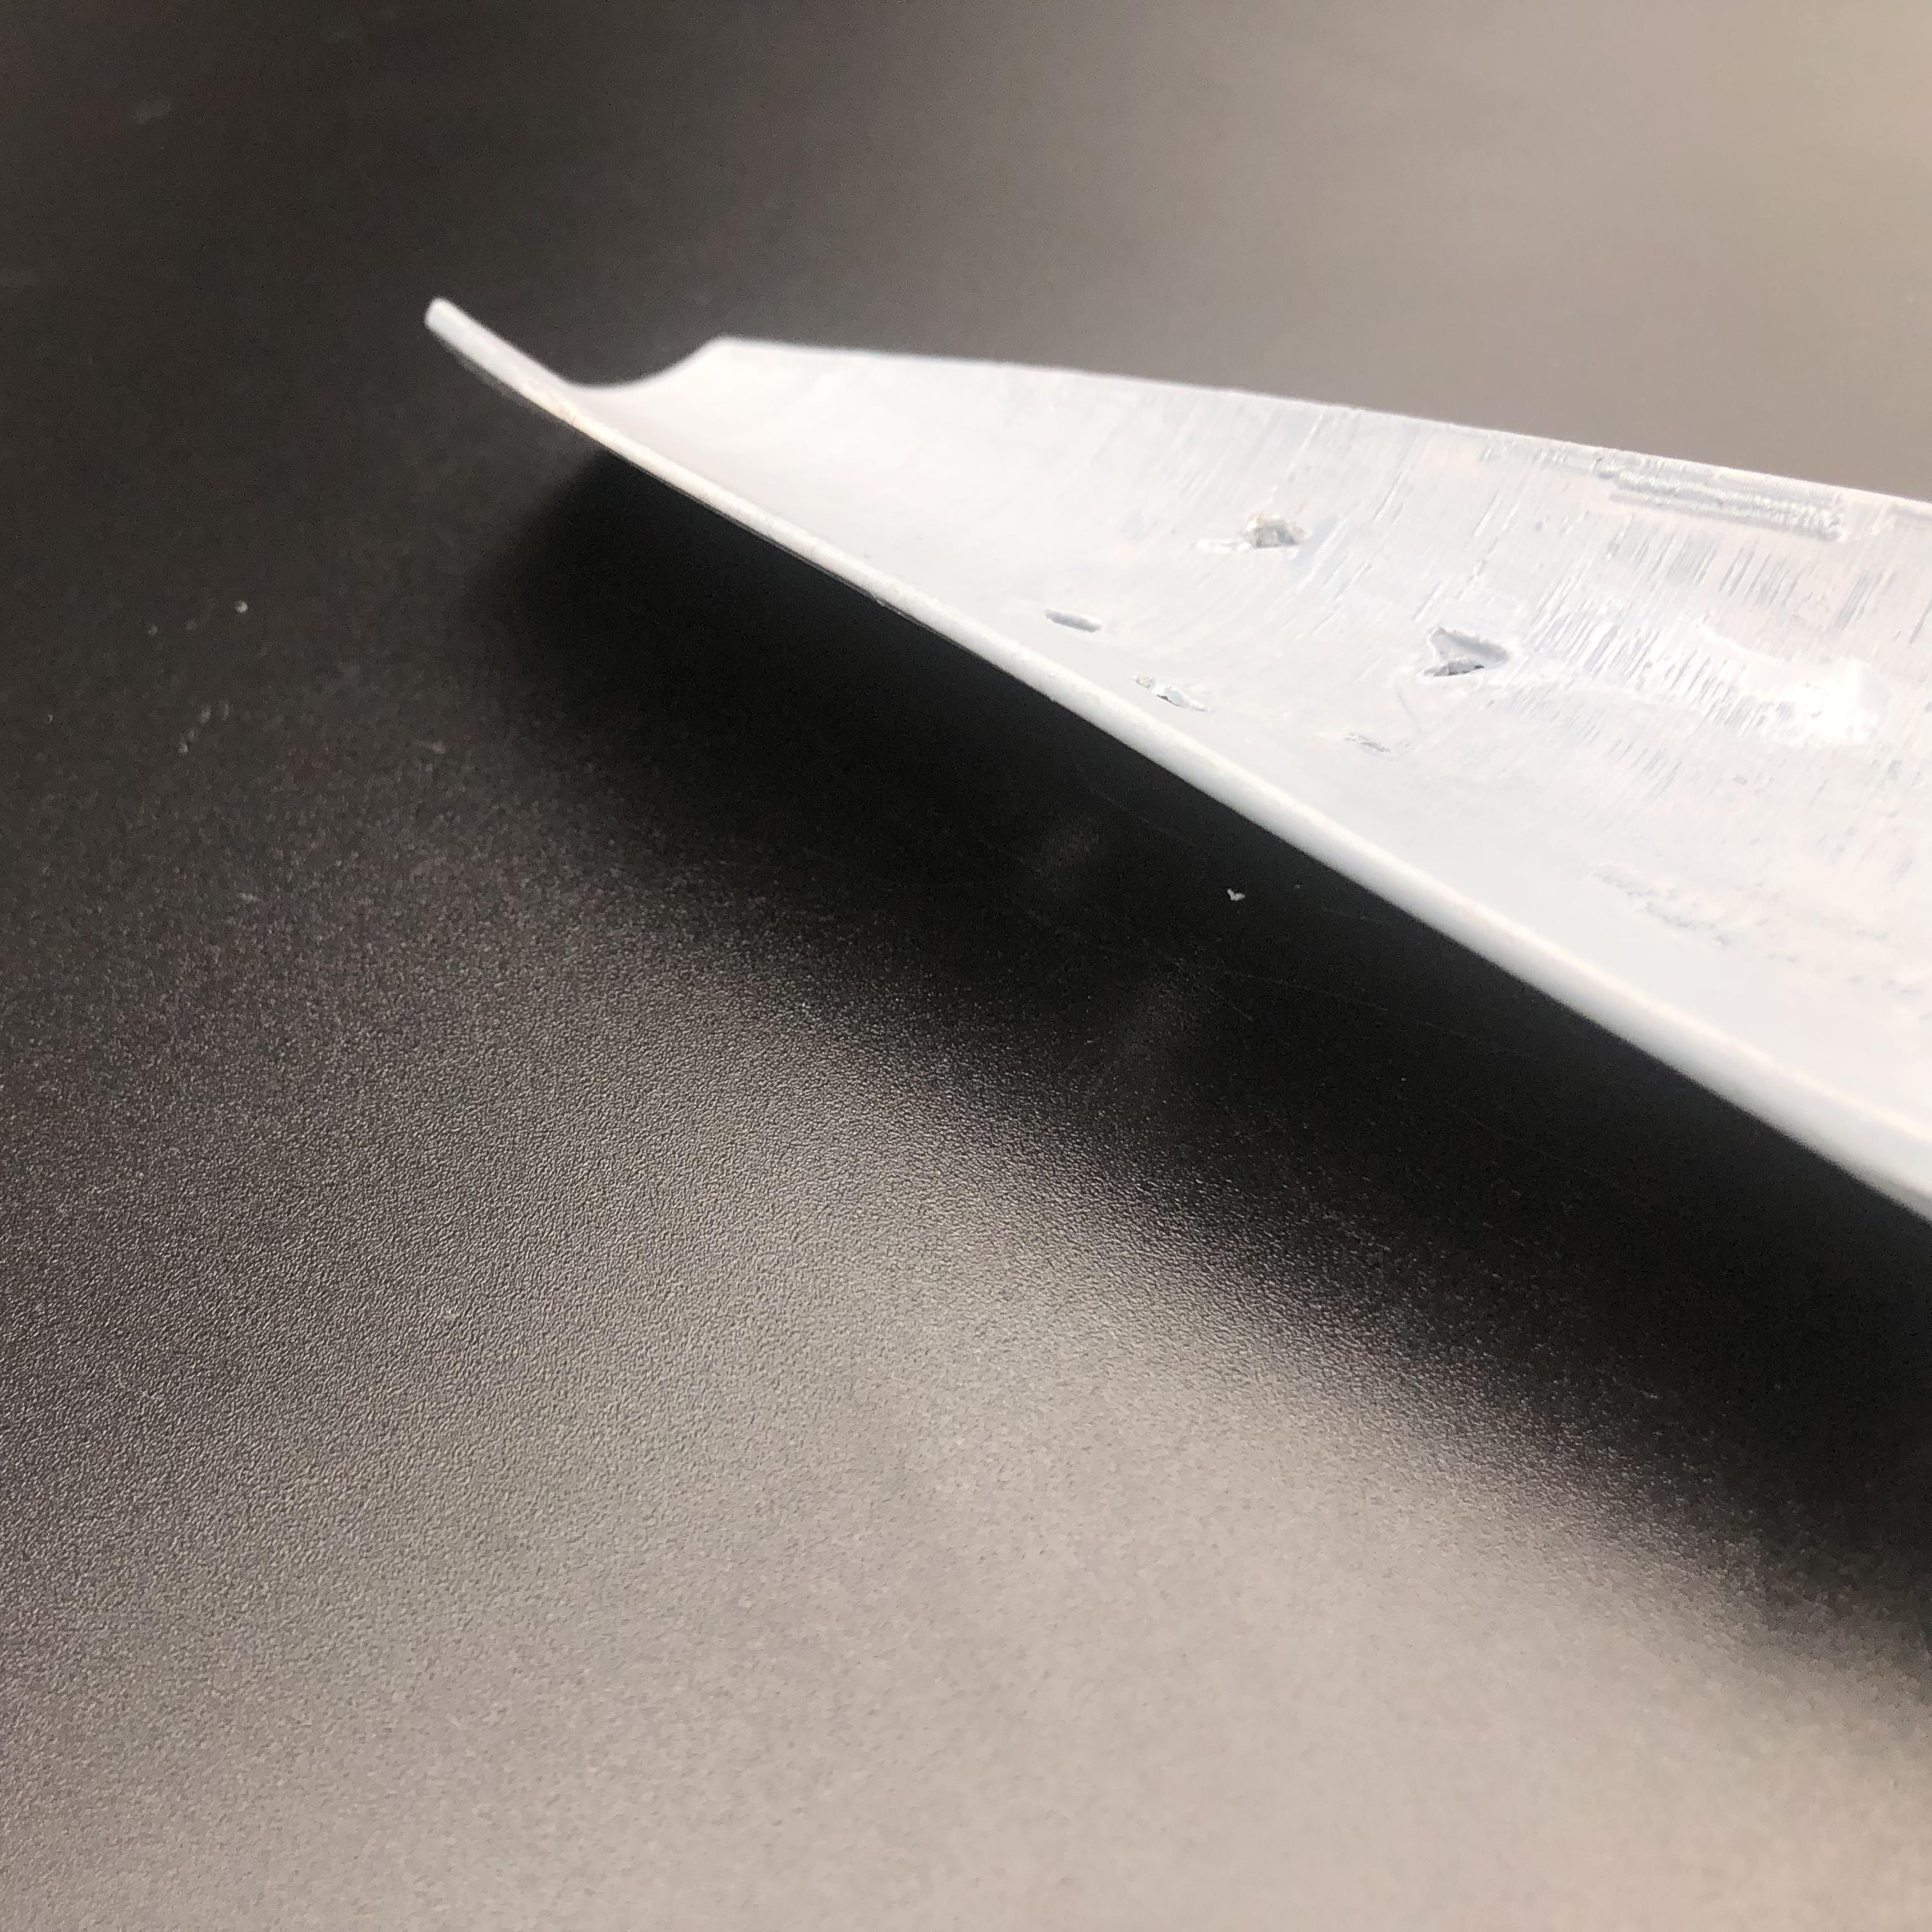breakdown: (1065, 513, 1564, 722)
